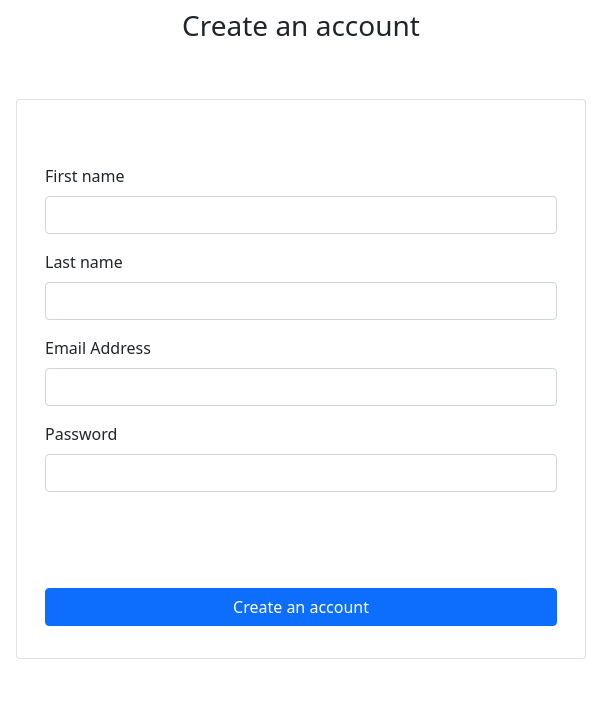
Test case: RegistrationForm › should throw error if email is not valid
Type "test@test" into the field with test id "email" at (301, 387), box [45,368,557,406]
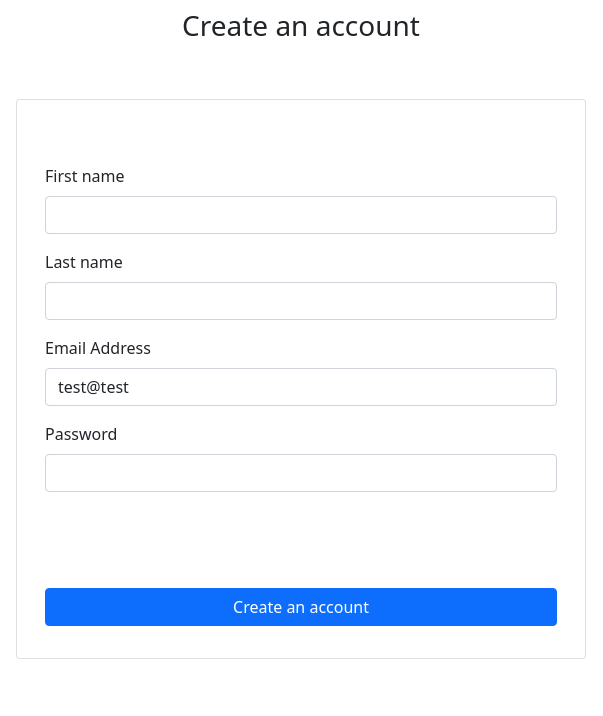
Type "secret" into the password field with test id "password" at (301, 473), box [45,454,557,492]
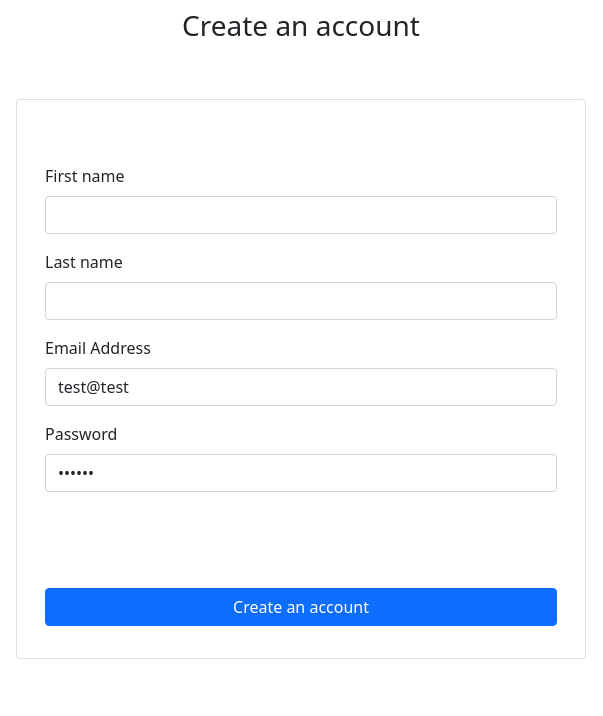
Type "test" into the field with test id "fName" at (301, 215), box [45,196,557,234]
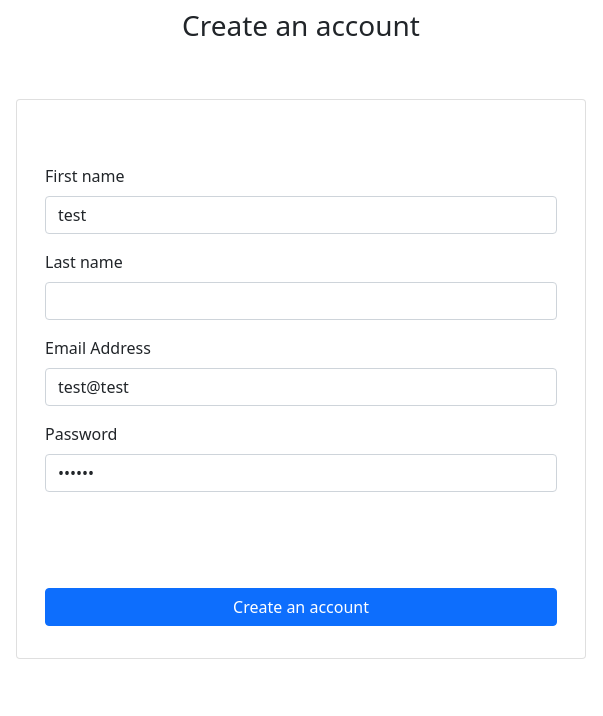
Type "testLast" into the field with test id "lName" at (301, 301), box [45,282,557,320]
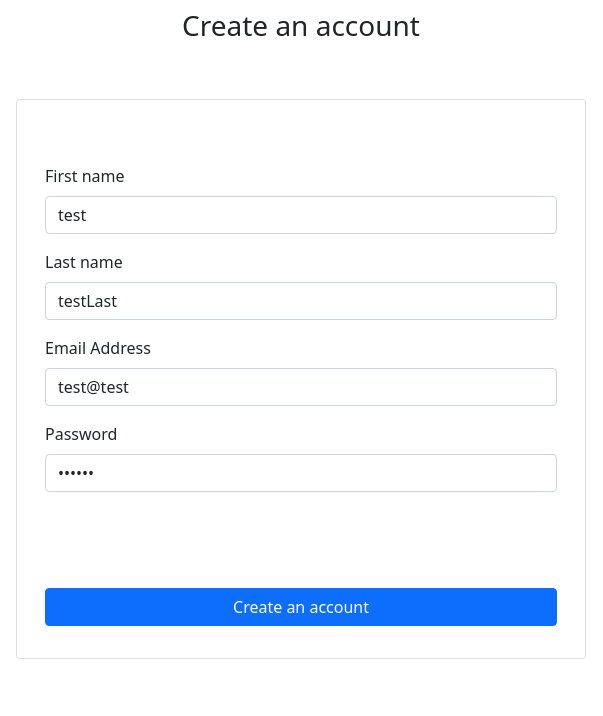
Click the button with test id "button" at (301, 607), box [45,588,557,626]
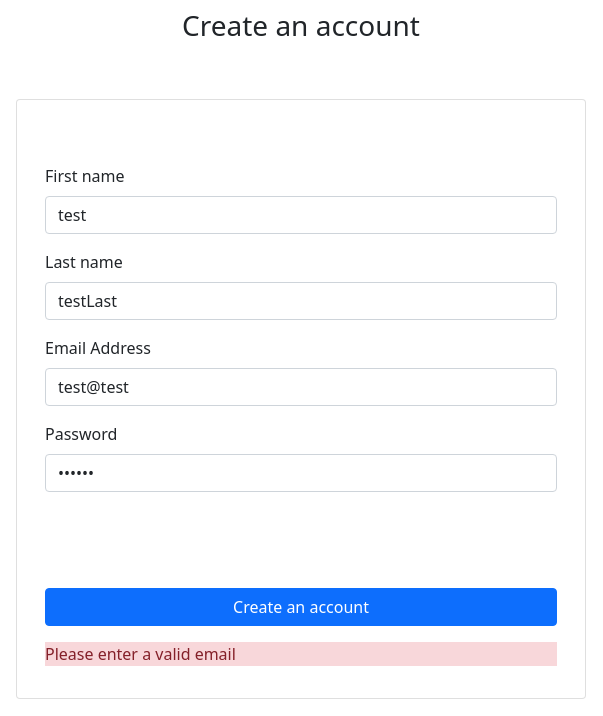
expect the text with test id "error" reads "Please enter a valid email": met, box [45,643,236,665]
